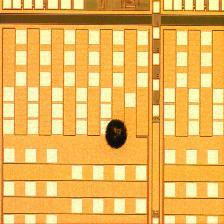PARTICLE: (99, 117, 135, 153)
